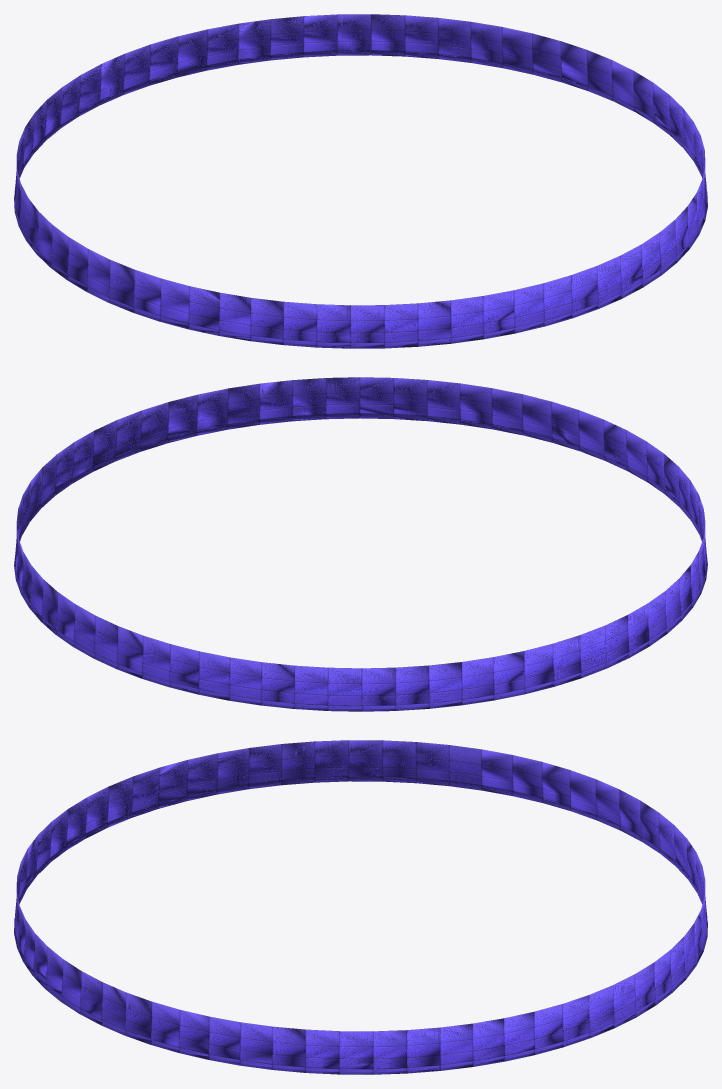
Rendered from Arena.fbx.
3 renders of one model, top to bottom at view 1: azimuth 30°, elevation 25°; view 2: azimuth 150°, elevation 25°; view 3: azimuth 270°, elevation 25°, orthographic.
Visible parts, largest first — view 1: Cenario.001; view 2: Cenario.001; view 3: Cenario.001.
Boxes of the visible parts, box(x1,y1,x2,y2) form: Cenario.001: box(14, 14, 707, 348); Cenario.001: box(14, 377, 707, 711); Cenario.001: box(14, 740, 707, 1074).
Bounding box in the file's own units: 38.85 × 2.62 × 38.85.
